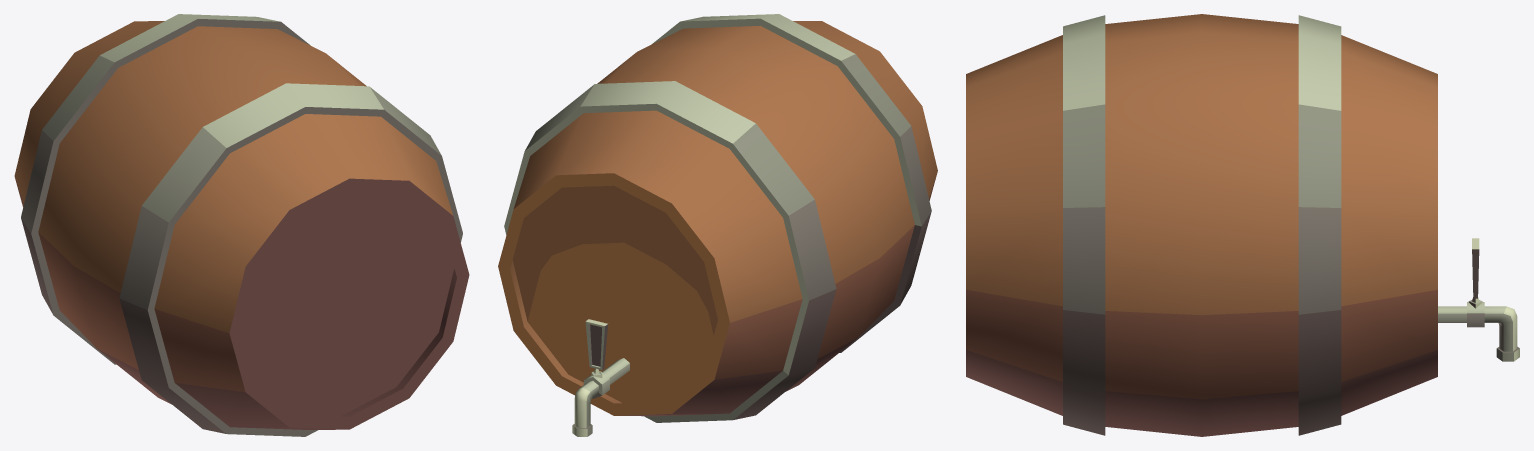
The model's file is Barril_01.FBX.
3 views of the same model, side by side, from view 1: azimuth 30°, elevation 25°; view 2: azimuth 150°, elevation 25°; view 3: azimuth 270°, elevation 25° (orthographic). The views are drawn at different scales.
Visible parts, largest first — view 1: Barril_01; view 2: Barril_01; view 3: Barril_01.
Boxes of the visible parts, x1,y1,x2,y2 form: Barril_01: [14, 14, 469, 436]; Barril_01: [498, 14, 937, 436]; Barril_01: [966, 14, 1519, 436].
Size of the model in its own units: 90 by 90 by 117.
